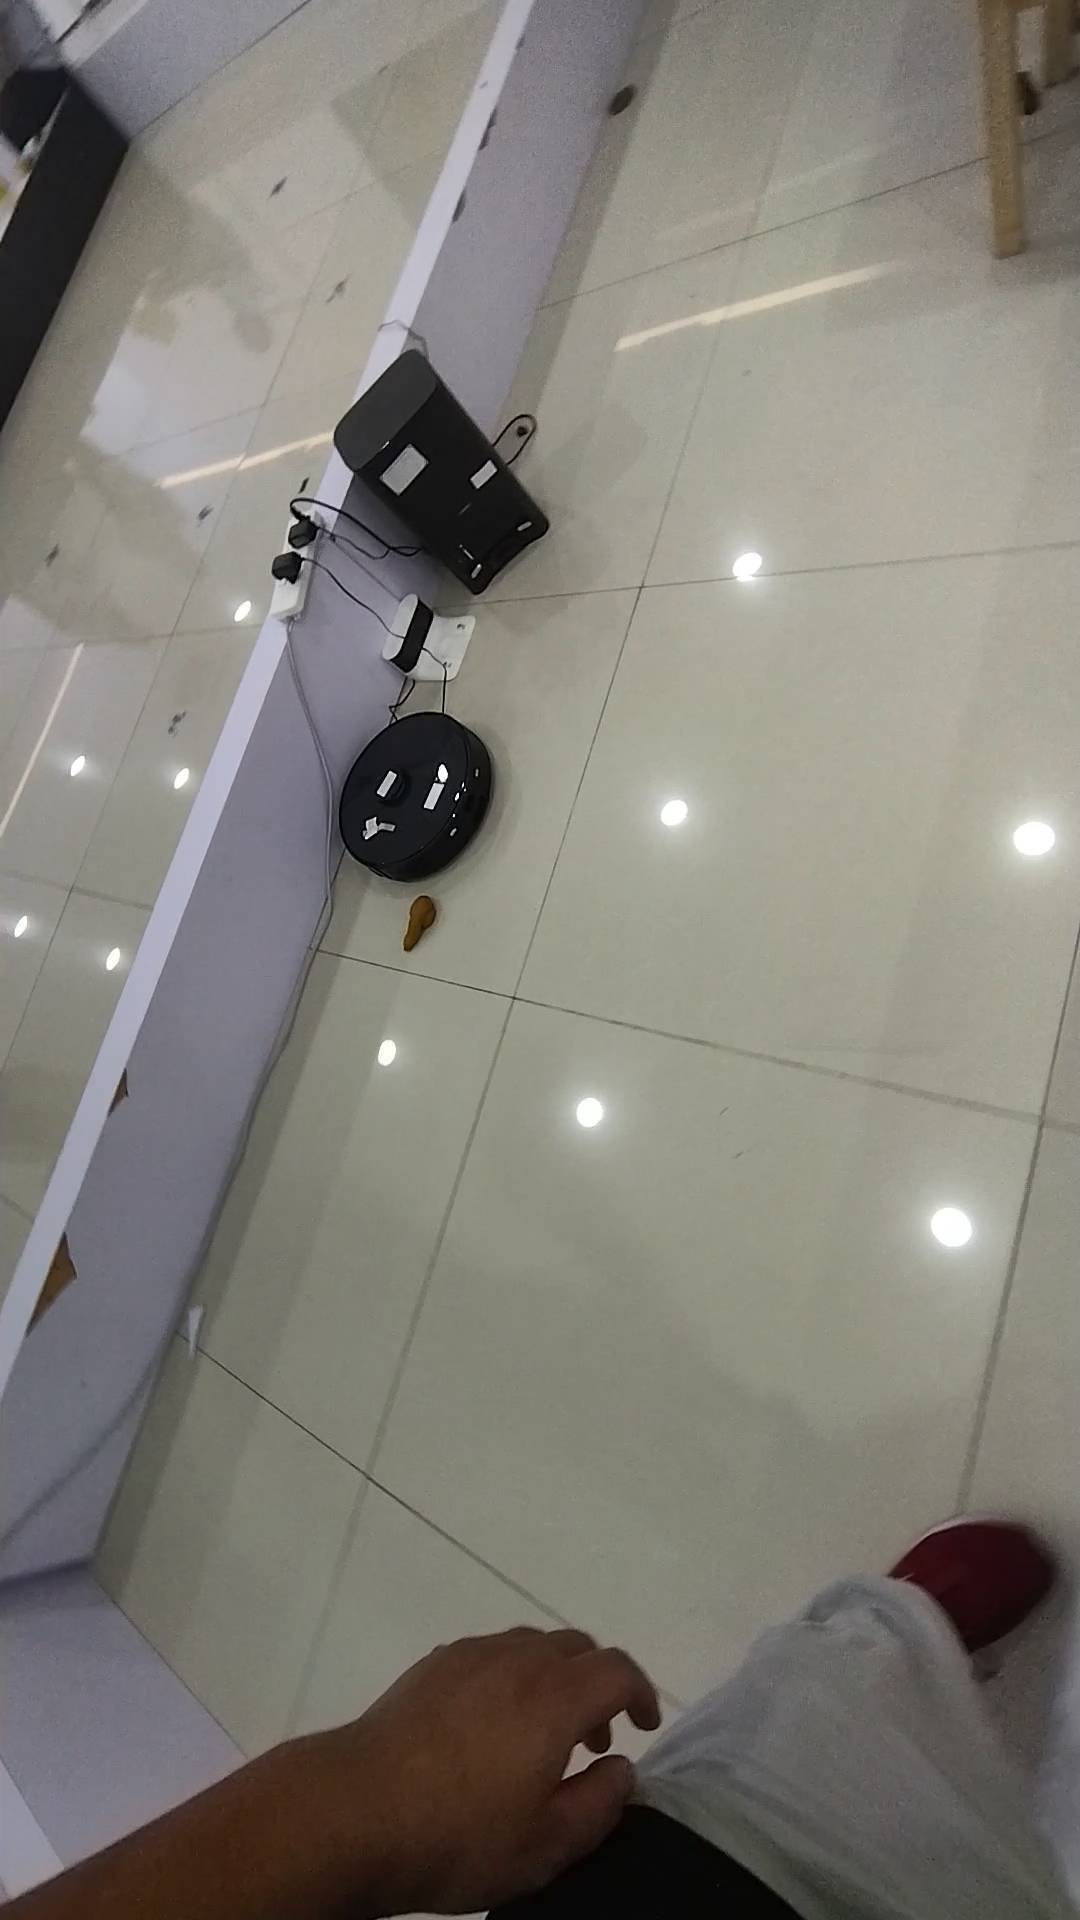dust collecting barrel: (334, 351, 547, 585)
recharge seat: (384, 593, 476, 687)
